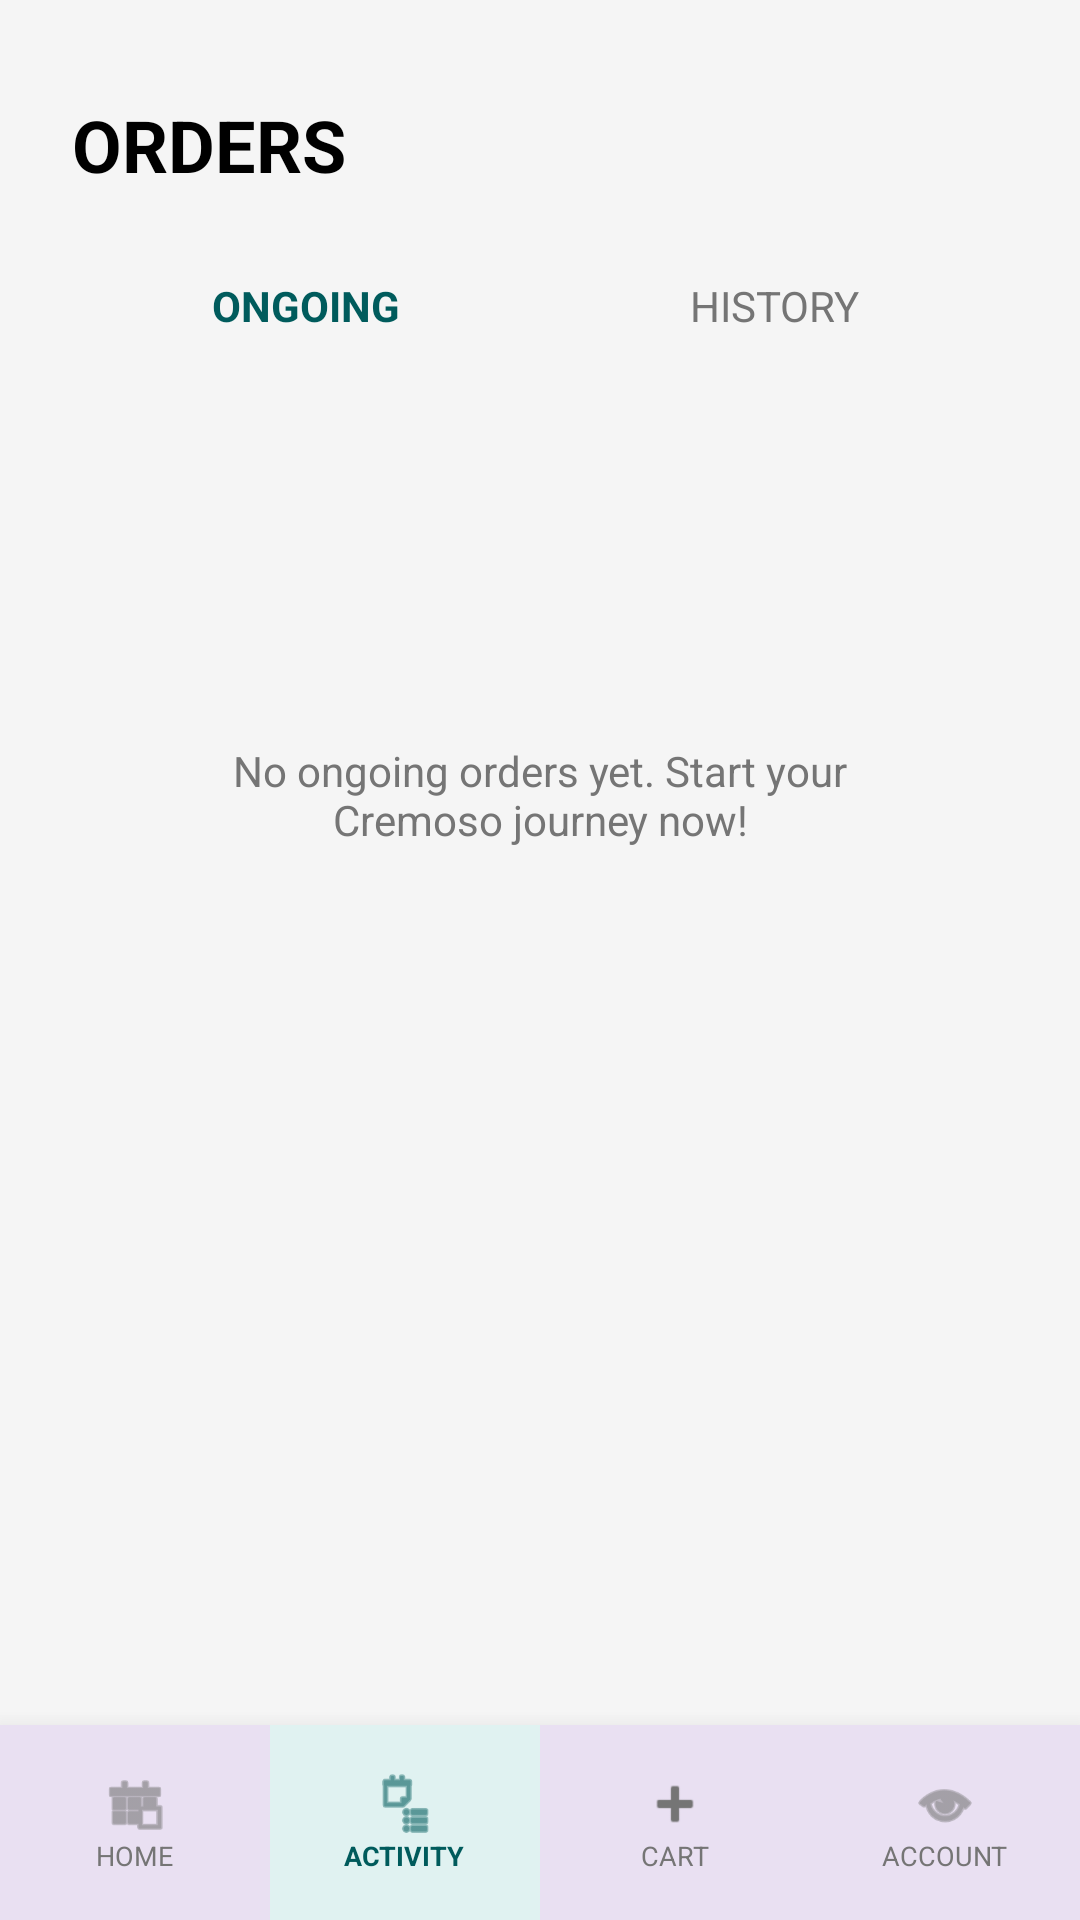

Named icons in this screenshot (1080w x 1920h) and their bounding boxes, {"x1": x1, "y1": y1, "x2": x2, "y2": y2}:
add: {"x1": 656, "y1": 1786, "x2": 694, "y2": 1823}
agenda: {"x1": 382, "y1": 1774, "x2": 429, "y2": 1833}
today: {"x1": 109, "y1": 1780, "x2": 163, "y2": 1830}
view: {"x1": 918, "y1": 1789, "x2": 972, "y2": 1822}
